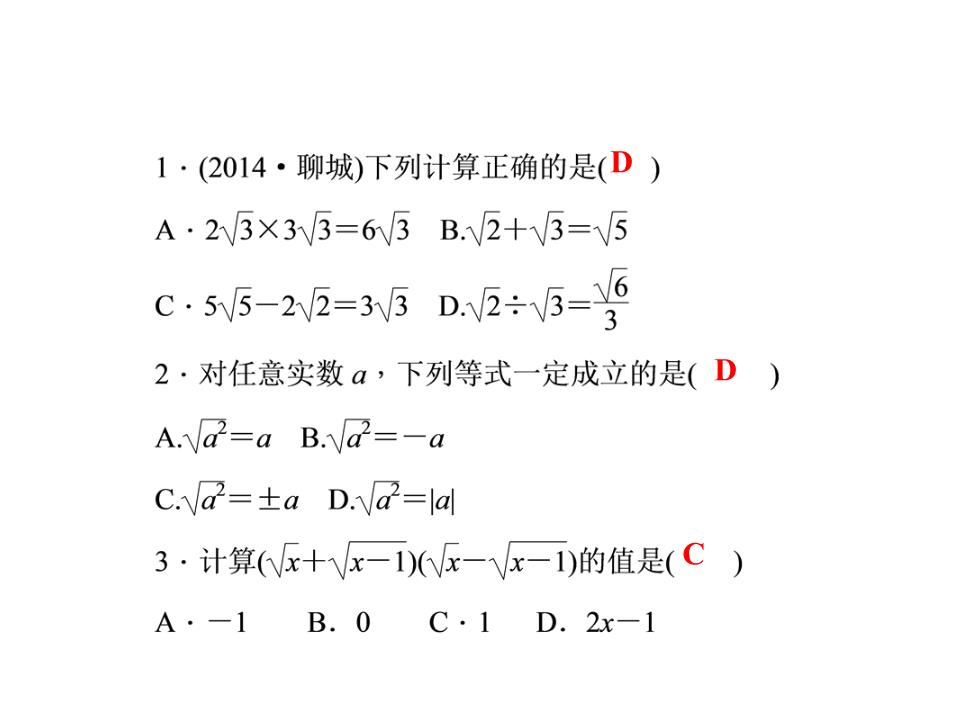division: (591, 297, 631, 309)
sqrt: (489, 535, 568, 582), (330, 539, 408, 579), (329, 413, 376, 458), (182, 416, 231, 454), (180, 479, 226, 516), (376, 283, 412, 329), (531, 283, 568, 326), (357, 479, 401, 515), (465, 208, 504, 248), (465, 285, 503, 326), (427, 539, 462, 582), (297, 207, 332, 249), (593, 209, 629, 249), (376, 210, 413, 248), (529, 210, 567, 247), (297, 285, 332, 325), (223, 207, 253, 252), (219, 285, 257, 320), (268, 541, 300, 581), (597, 264, 627, 300)
square: (217, 418, 229, 438), (388, 482, 401, 500), (216, 479, 225, 499), (361, 420, 369, 434)
